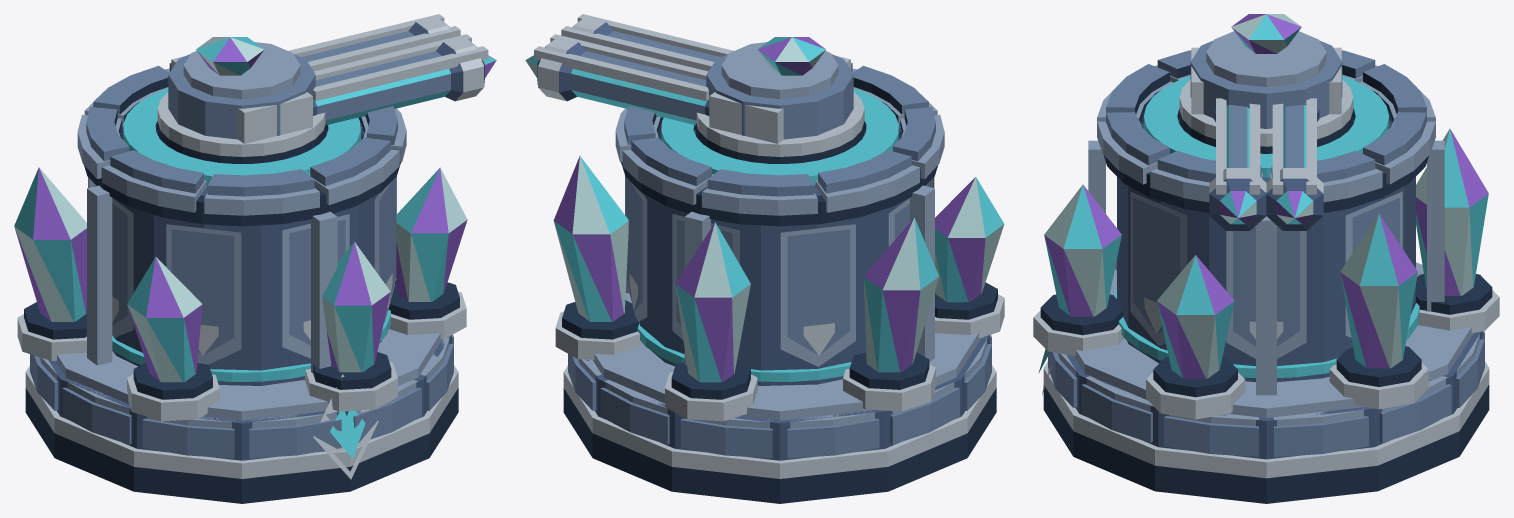
Rendered from crystal-tower-tier-3.glb.
3 renders of one model, left to right at view 1: azimuth 30°, elevation 25°; view 2: azimuth 150°, elevation 25°; view 3: azimuth 270°, elevation 25°, orthographic. The views are drawn at different scales.
Visible parts, largest first — view 1: Armored base and crystal sockets, Turret, Barrel recoil joint; view 2: Armored base and crystal sockets, Turret, Barrel recoil joint; view 3: Armored base and crystal sockets, Turret, Barrel recoil joint.
Part boxes in pixels (x1,y1,x2,y2): Armored base and crystal sockets: (14, 63, 467, 503); Turret: (157, 37, 326, 163); Barrel recoil joint: (288, 14, 496, 125); Armored base and crystal sockets: (553, 63, 1004, 503); Turret: (695, 37, 864, 163); Barrel recoil joint: (525, 14, 733, 125); Armored base and crystal sockets: (1033, 50, 1499, 503); Turret: (1179, 14, 1353, 153); Barrel recoil joint: (1209, 98, 1323, 230).
Size of the model in its own units: 1.44 by 1.21 by 1.32.
